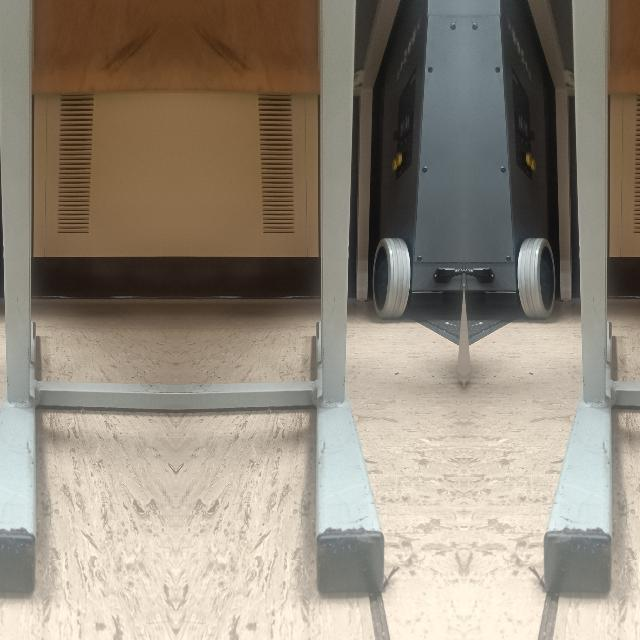obstacle: (312, 243, 388, 599), (540, 243, 616, 599), (0, 243, 37, 599)
